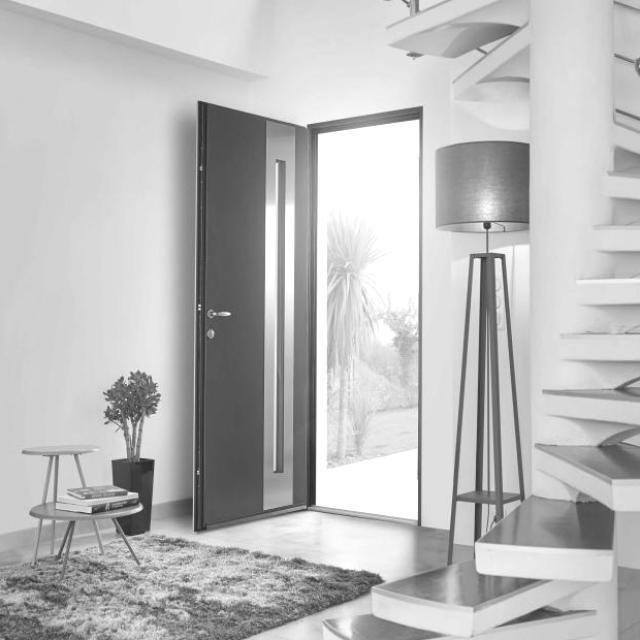door: (193, 99, 309, 531)
